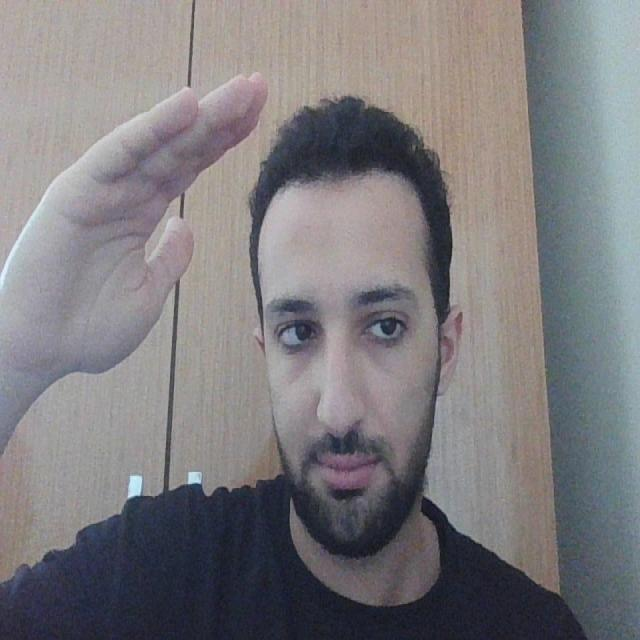Merhaba: (12, 64, 306, 430)
